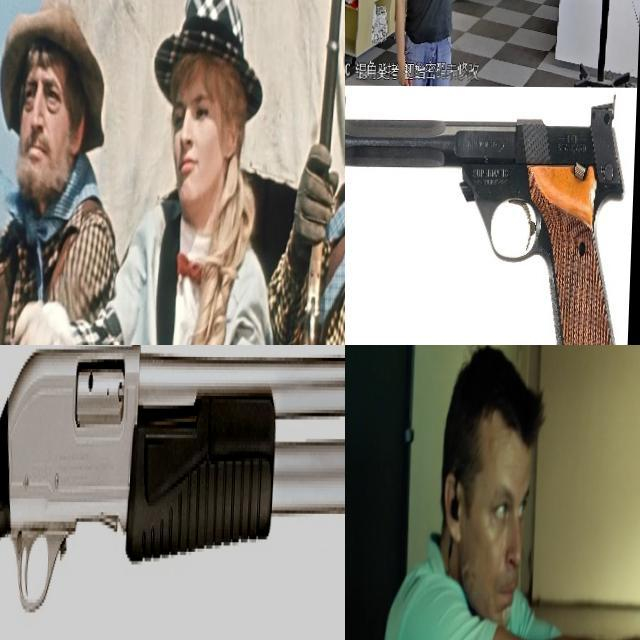gun-knife-thesis - v11 Yolov5 augmented: (0, 345, 345, 640), (345, 88, 634, 345), (345, 84, 494, 345), (0, 63, 52, 313), (511, 0, 539, 30), (345, 0, 361, 33)
